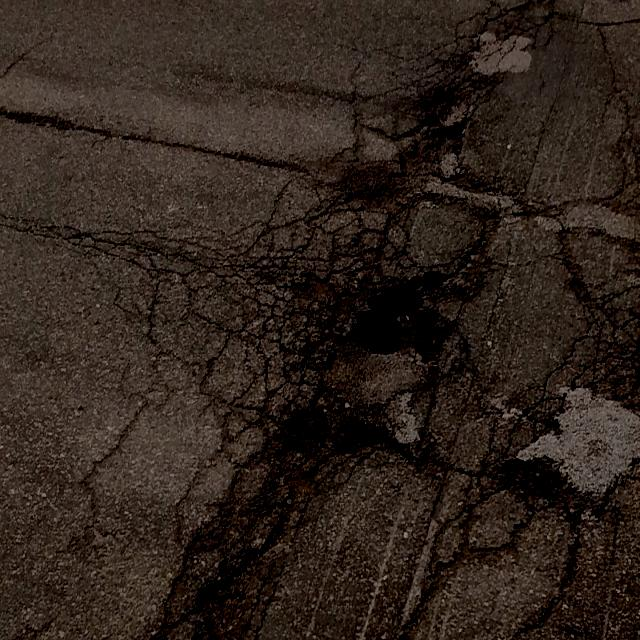Pothole: (239, 94, 480, 506)
